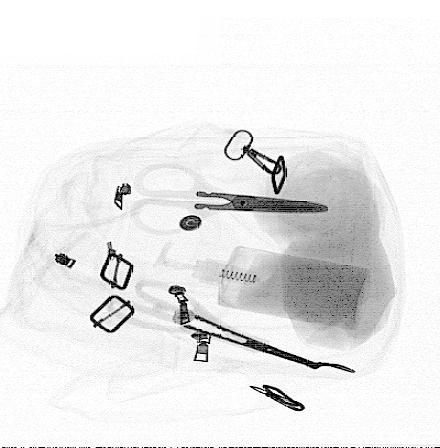Scissors: (103, 278, 320, 370), (128, 161, 329, 238)
